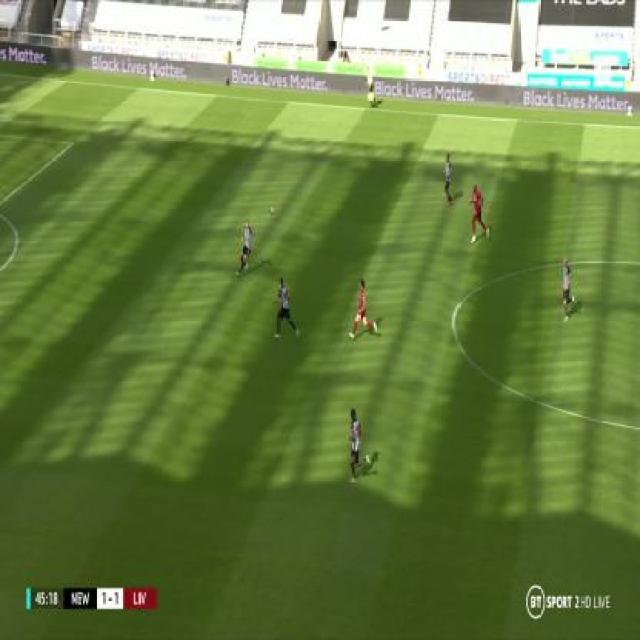ball: (269, 206, 275, 217)
player: (349, 276, 380, 342), (273, 275, 299, 341), (345, 407, 367, 481), (467, 180, 492, 243), (558, 255, 580, 324), (235, 216, 255, 278), (442, 151, 456, 207), (361, 63, 377, 108)
